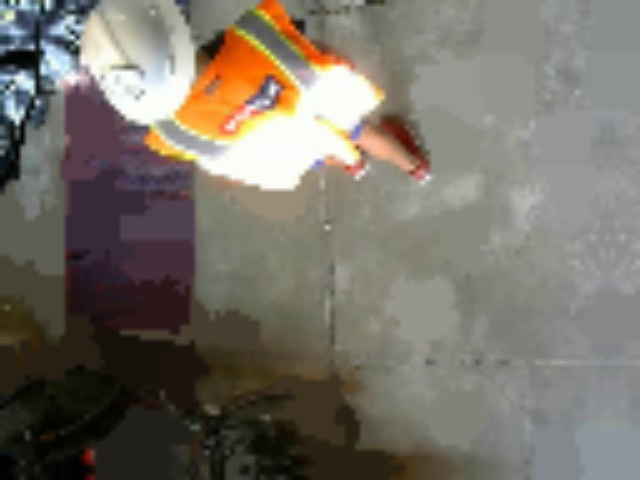two: (99, 66, 145, 102)
